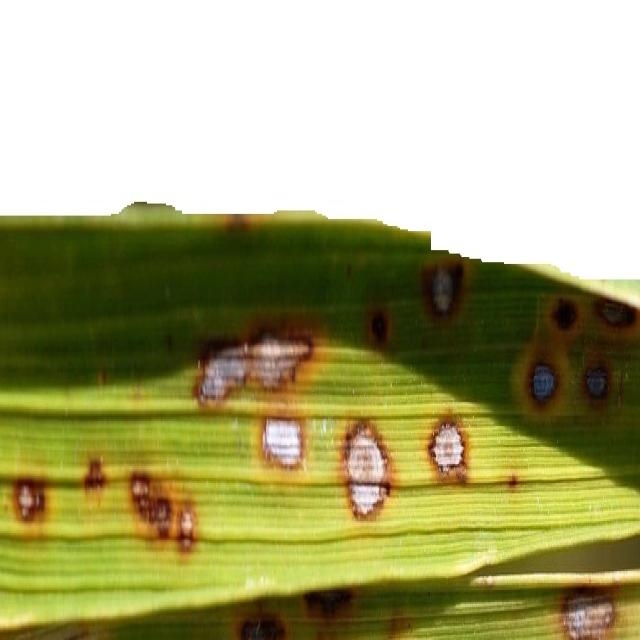Unhealthy: (190, 307, 338, 493), (125, 464, 202, 577), (335, 406, 400, 536), (512, 334, 572, 424), (543, 578, 622, 640), (416, 251, 474, 331), (419, 404, 472, 491), (4, 470, 55, 545), (300, 584, 358, 640), (588, 290, 640, 341), (545, 293, 586, 356), (578, 350, 614, 414), (78, 449, 113, 514), (229, 607, 293, 640), (362, 298, 394, 356), (385, 607, 416, 640), (505, 470, 523, 496), (346, 264, 352, 280)
